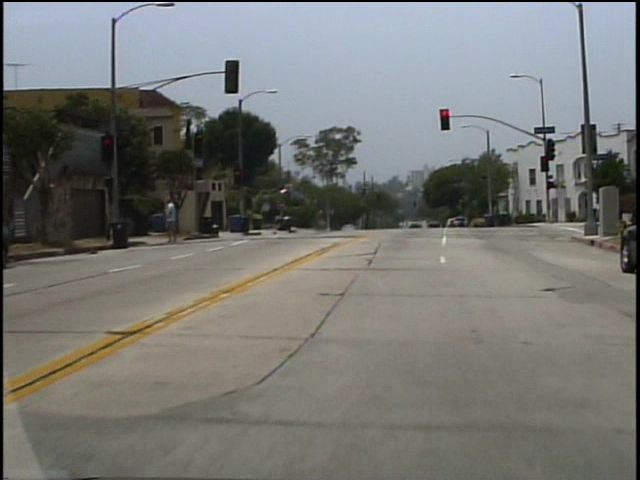person: (168, 195, 188, 243), (171, 201, 183, 242)
